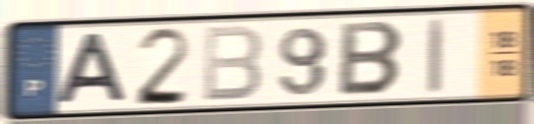2: (134, 25, 191, 107)
9: (276, 25, 329, 97)
A: (53, 30, 130, 108)
B: (336, 20, 407, 98), (200, 23, 266, 105)
I: (425, 14, 447, 97)
